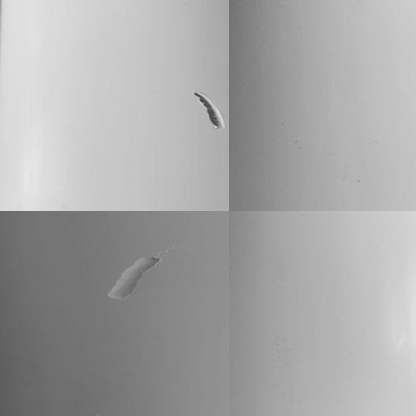kongdong: (188, 89, 228, 131)
sunshang: (110, 254, 159, 307)
